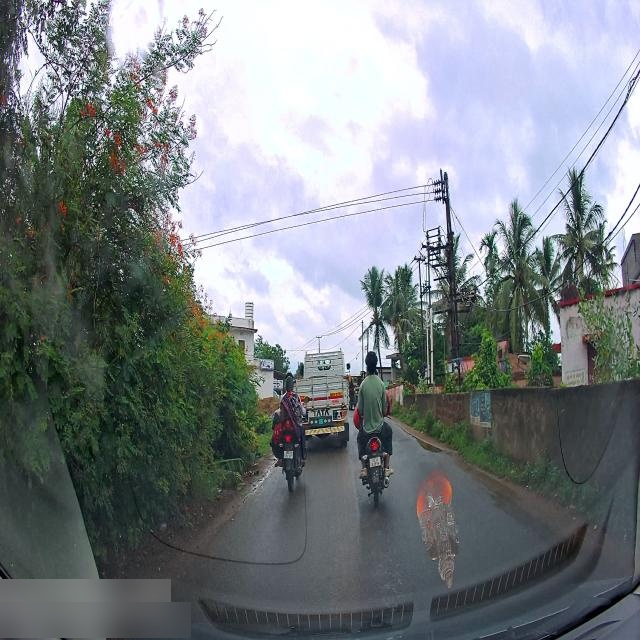pothole: (416, 432, 444, 454)
